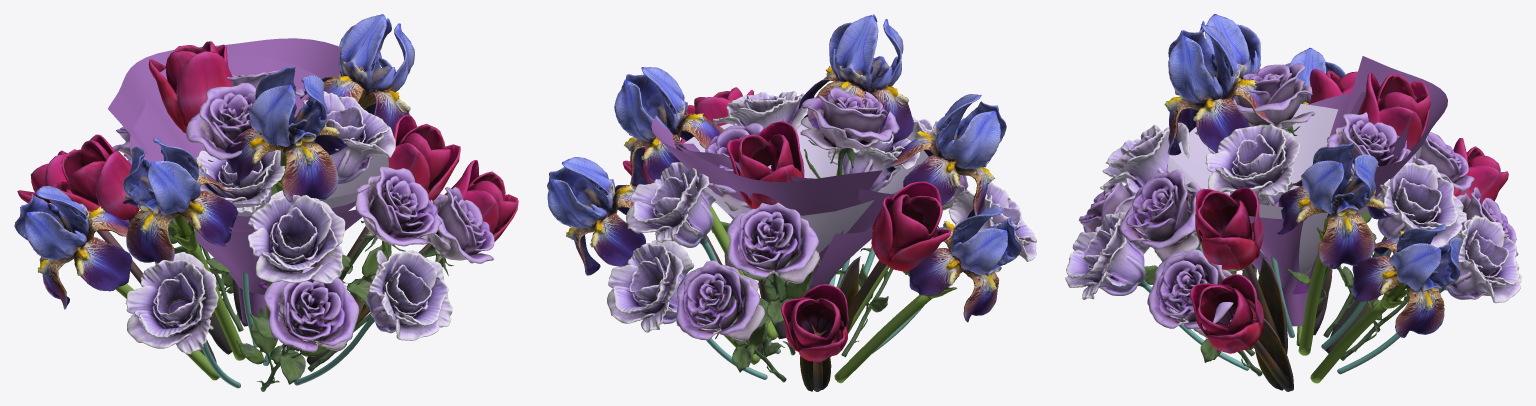
Rendered from purple_wrapped_bouquet.glb.
3 views of the same model, side by side, from view 1: azimuth 30°, elevation 25°; view 2: azimuth 150°, elevation 25°; view 3: azimuth 270°, elevation 25° (orthographic). The views are drawn at different scales.
Parts seen in each view (by area): view 1: Bouquet_iris_12, Bouquet_iris_1, Bouquet_iris_21, Bouquet_rose_23, Bouquet_eustoma_22, Bouquet_eustoma_13, Bouquet_eustoma_14, Bouquet_rose_6, Bouquet_iris_8, Wrapper_BackCollar, Wrapper_MainCone, Bouquet_tulip_11 (+13 smaller); view 2: Bouquet_iris_21, Bouquet_iris_12, Bouquet_iris_8, Bouquet_rose_10, Bouquet_iris_17, Bouquet_rose_19, Bouquet_tulip_11, Bouquet_iris_1, Bouquet_eustoma_18, Bouquet_eustoma_9, Wrapper_BackCollar, Bouquet_tulip_20 (+13 smaller); view 3: Bouquet_iris_8, Bouquet_iris_17, Bouquet_iris_1, Bouquet_tulip_7, Bouquet_tulip_16, Bouquet_eustoma_2, Bouquet_eustoma_9, Bouquet_eustoma_14, Wrapper_InnerCollar, Bouquet_rose_6, Bouquet_eustoma_18, Bouquet_rose_15 (+13 smaller).
Boxes of the visible parts, x1=… form: Bouquet_iris_12: x1=122, y1=137, x2=245, y2=360; Bouquet_iris_1: x1=225, y1=66, x2=347, y2=316; Bouquet_iris_21: x1=14, y1=186, x2=219, y2=380; Bouquet_rose_23: x1=236, y1=266, x2=359, y2=391; Bouquet_eustoma_22: x1=125, y1=252, x2=240, y2=388; Bouquet_eustoma_13: x1=247, y1=190, x2=345, y2=365; Bouquet_eustoma_14: x1=294, y1=250, x2=452, y2=385; Bouquet_rose_6: x1=289, y1=166, x2=441, y2=350; Bouquet_iris_8: x1=300, y1=14, x2=414, y2=132; Wrapper_BackCollar: x1=108, y1=38, x2=341, y2=156; Wrapper_MainCone: x1=129, y1=56, x2=388, y2=325; Bouquet_tulip_11: x1=53, y1=134, x2=232, y2=354; Bouquet_iris_21: x1=834, y1=206, x2=1021, y2=383; Bouquet_iris_12: x1=848, y1=94, x2=1006, y2=333; Bouquet_iris_8: x1=614, y1=67, x2=778, y2=340; Bouquet_rose_10: x1=727, y1=202, x2=819, y2=355; Bouquet_iris_17: x1=547, y1=157, x2=760, y2=364; Bouquet_rose_19: x1=676, y1=260, x2=786, y2=382; Bouquet_tulip_11: x1=830, y1=181, x2=951, y2=356; Bouquet_iris_1: x1=798, y1=14, x2=913, y2=175; Bouquet_eustoma_18: x1=607, y1=240, x2=767, y2=379; Bouquet_eustoma_9: x1=626, y1=162, x2=780, y2=353; Wrapper_BackCollar: x1=651, y1=115, x2=882, y2=291; Bouquet_tulip_20: x1=780, y1=284, x2=848, y2=391; Bouquet_iris_8: x1=1277, y1=142, x2=1393, y2=355; Bouquet_iris_17: x1=1310, y1=224, x2=1463, y2=383; Bouquet_iris_1: x1=1164, y1=24, x2=1276, y2=274; Bouquet_tulip_7: x1=1195, y1=187, x2=1287, y2=354; Bouquet_tulip_16: x1=1190, y1=274, x2=1293, y2=391; Bouquet_eustoma_2: x1=1205, y1=124, x2=1300, y2=337; Bouquet_eustoma_9: x1=1321, y1=162, x2=1466, y2=349; Bouquet_eustoma_14: x1=1065, y1=212, x2=1249, y2=370; Wrapper_InnerCollar: x1=1167, y1=103, x2=1421, y2=274; Bouquet_rose_6: x1=1119, y1=169, x2=1256, y2=278; Bouquet_eustoma_18: x1=1337, y1=215, x2=1521, y2=374; Bouquet_rose_15: x1=1147, y1=249, x2=1262, y2=376.
Size of the model in its own units: 1.05 by 0.7661 by 0.9449.
7 materials, 4 textured.
